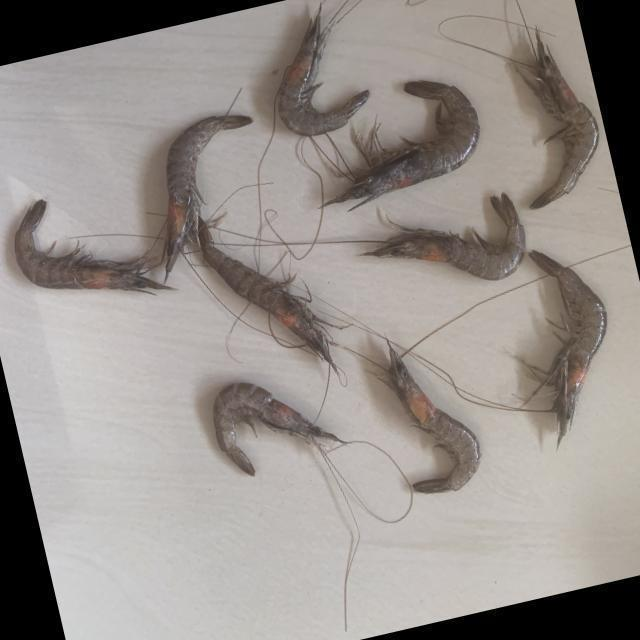shrimp: (197, 216, 337, 373), (323, 79, 480, 209), (529, 250, 607, 447), (13, 199, 174, 292), (161, 114, 252, 277), (387, 341, 481, 494), (363, 192, 526, 280), (521, 29, 599, 208), (212, 383, 347, 475), (277, 2, 369, 135)
